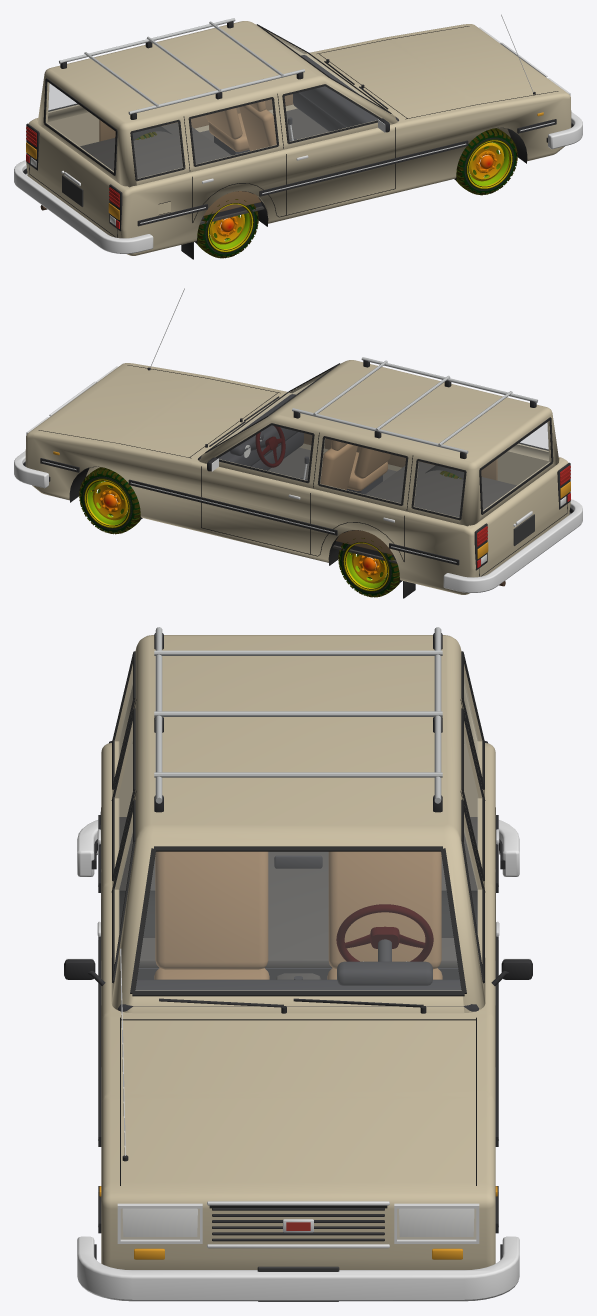
Rendered from wagon.glb.
3 views of the same model, one above another, from view 1: azimuth 30°, elevation 25°; view 2: azimuth 150°, elevation 25°; view 3: azimuth 270°, elevation 25° (orthographic). The views are drawn at different scales.
Parts seen in each view (by area): view 1: Wagon_Body, Wagon_Cab, Glass_RR, WheelStock_FR, Glass_FR, Glass_Rear, WheelStock_RR, Glass_QR, Glass_QL, Numberplate_Rear, Windshield; view 2: Wagon_Body, Wagon_Cab, Glass_RL, WheelStock_FL, Glass_FL, Glass_Rear, WheelStock_RL, Glass_QL, Steering_Wheel, Glass_QR; view 3: Wagon_Body, Windshield, Wagon_Cab, Lens, Lamp_Head, Steering_Wheel.
Boxes of the visible parts, x1,y1,x2,y2 form: Wagon_Body: (14, 14, 582, 259); Wagon_Cab: (80, 55, 398, 224); Glass_RR: (191, 100, 276, 163); WheelStock_FR: (456, 128, 517, 195); Glass_FR: (285, 87, 377, 140); Glass_Rear: (47, 83, 114, 171); WheelStock_RR: (197, 199, 258, 258); Glass_QR: (133, 122, 182, 178); Glass_QL: (49, 84, 77, 111); Numberplate_Rear: (62, 175, 83, 206); Windshield: (276, 37, 365, 97); Wagon_Body: (14, 288, 582, 598); Wagon_Cab: (198, 394, 516, 563); Glass_RL: (320, 439, 405, 502); WheelStock_FL: (79, 467, 140, 534); Glass_FL: (219, 426, 311, 479); Glass_Rear: (482, 422, 549, 510); WheelStock_RL: (338, 538, 399, 597); Glass_QL: (414, 462, 463, 517); Steering_Wheel: (255, 426, 285, 467); Glass_QR: (519, 423, 547, 450); Wagon_Body: (64, 627, 532, 1301); Windshield: (136, 852, 460, 990); Wagon_Cab: (118, 817, 479, 1011); Lens: (121, 1209, 475, 1239); Lamp_Head: (122, 1208, 474, 1236); Steering_Wheel: (336, 904, 433, 961).
Size of the model in its own units: 4.6 by 1.62 by 1.95.
